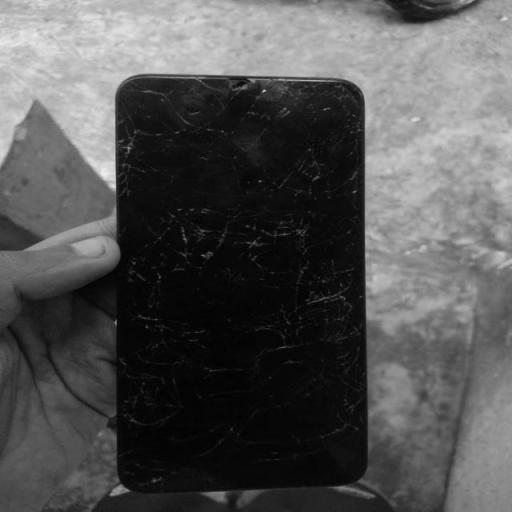phone: (116, 73, 375, 492)
